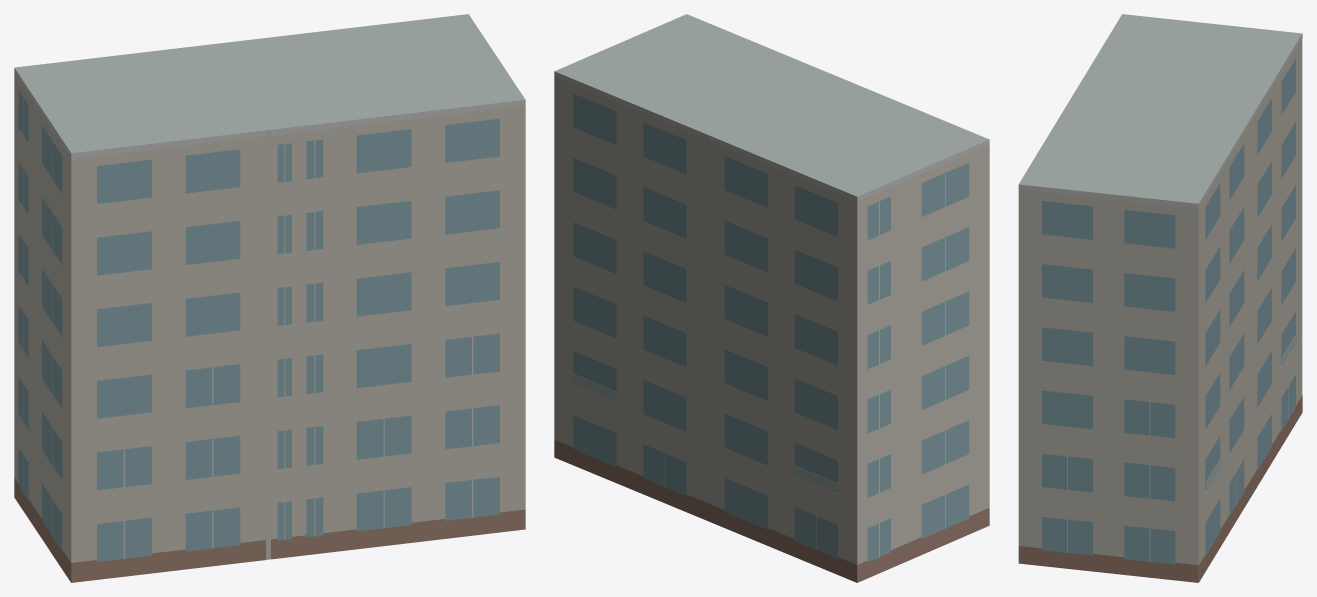
The model's file is survey-upis-32702183.glb.
3 views of the same model, side by side, from view 1: azimuth 30°, elevation 25°; view 2: azimuth 150°, elevation 25°; view 3: azimuth 270°, elevation 25° (orthographic). The views are drawn at different scales.
Visible parts, largest first — view 1: survey-upis-32702183.tmp; view 2: survey-upis-32702183.tmp; view 3: survey-upis-32702183.tmp.
Boxes of the visible parts, x1,y1,x2,y2 form: survey-upis-32702183.tmp: (14,14,525,582); survey-upis-32702183.tmp: (554,14,989,582); survey-upis-32702183.tmp: (1018,14,1302,582).
Bounding box in the file's own units: 19.66 × 18.3 × 12.43.
